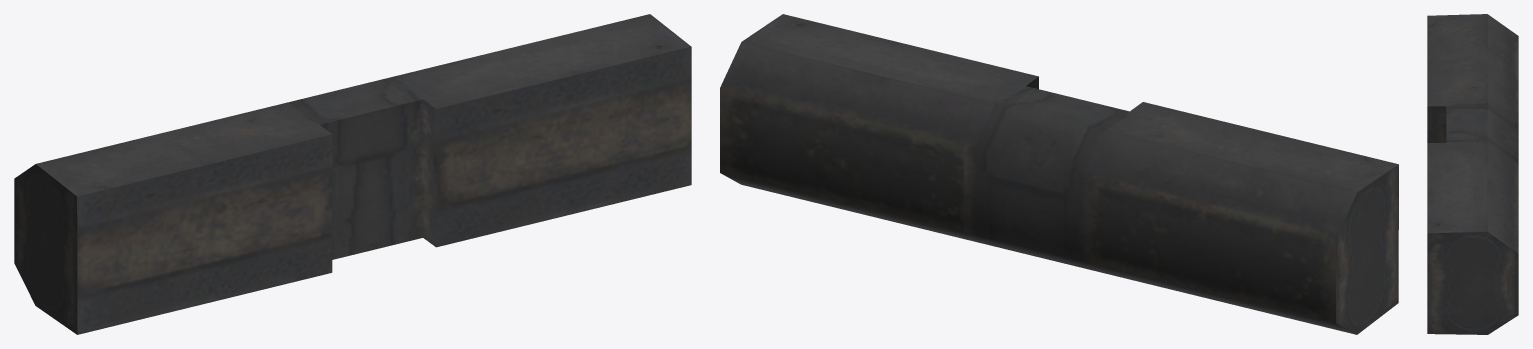
3 views of the same model, side by side, from view 1: azimuth 30°, elevation 25°; view 2: azimuth 150°, elevation 25°; view 3: azimuth 270°, elevation 25° (orthographic). The views are drawn at different scales.
Visible parts, largest first — view 1: set_0_group_0; view 2: set_0_group_0; view 3: set_0_group_0.
Boxes of the visible parts, x1,y1,x2,y2 form: set_0_group_0: (14,14,691,334); set_0_group_0: (720,14,1398,334); set_0_group_0: (1427,14,1518,334).
Size of the model in its own units: 0.5711 by 0.1263 by 0.1009.
1 material, 1 textured.
